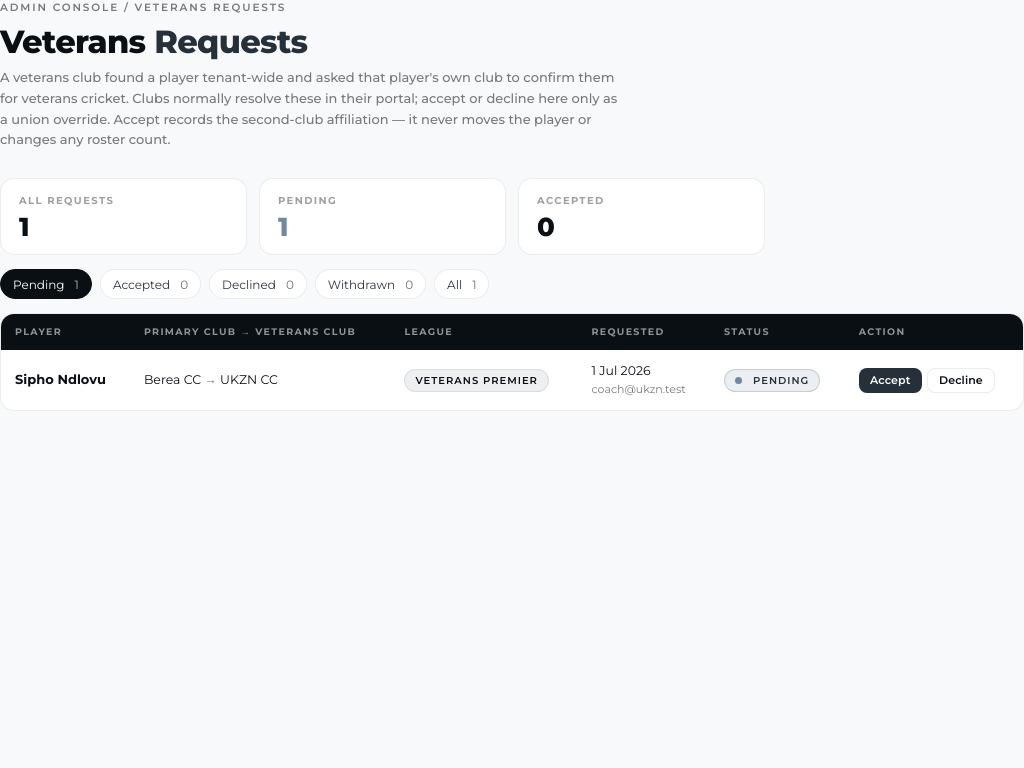
Test case: accept override › confirms, then accepts with the primaryClubId and version for OCC
Click the button "Accept" at [890, 380], box x1=859 y1=368 x2=921 y2=392
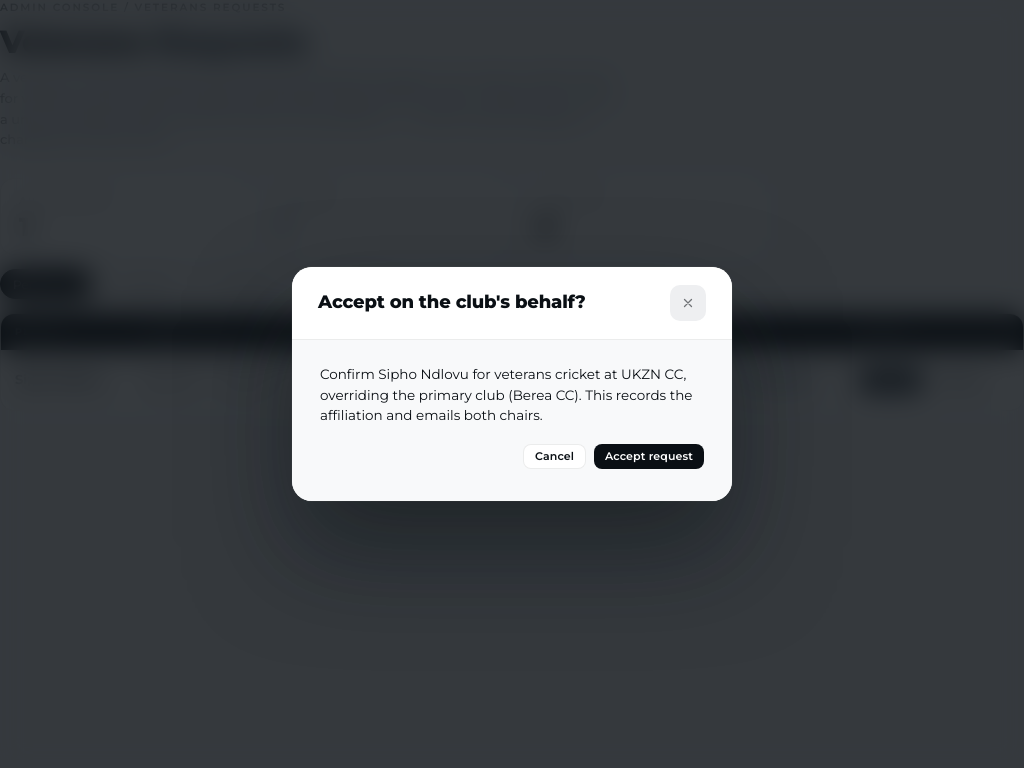
Click the button "Accept request" at [649, 457], box x1=594 y1=444 x2=704 y2=469
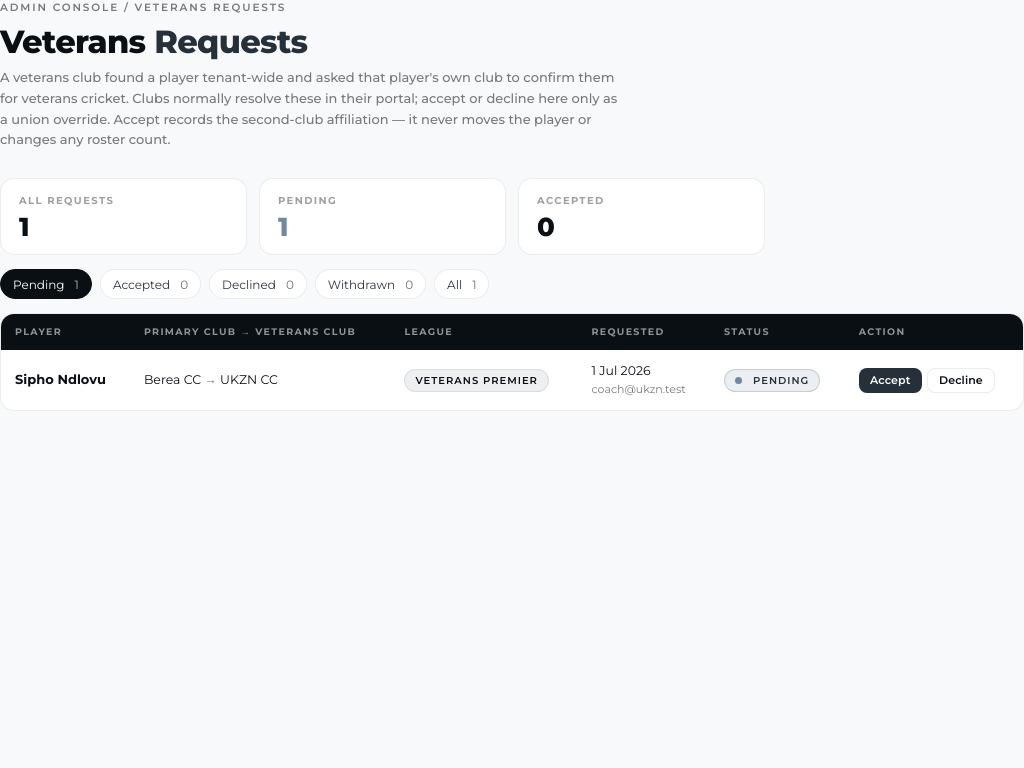
Check: the button "Accept request" is gone
